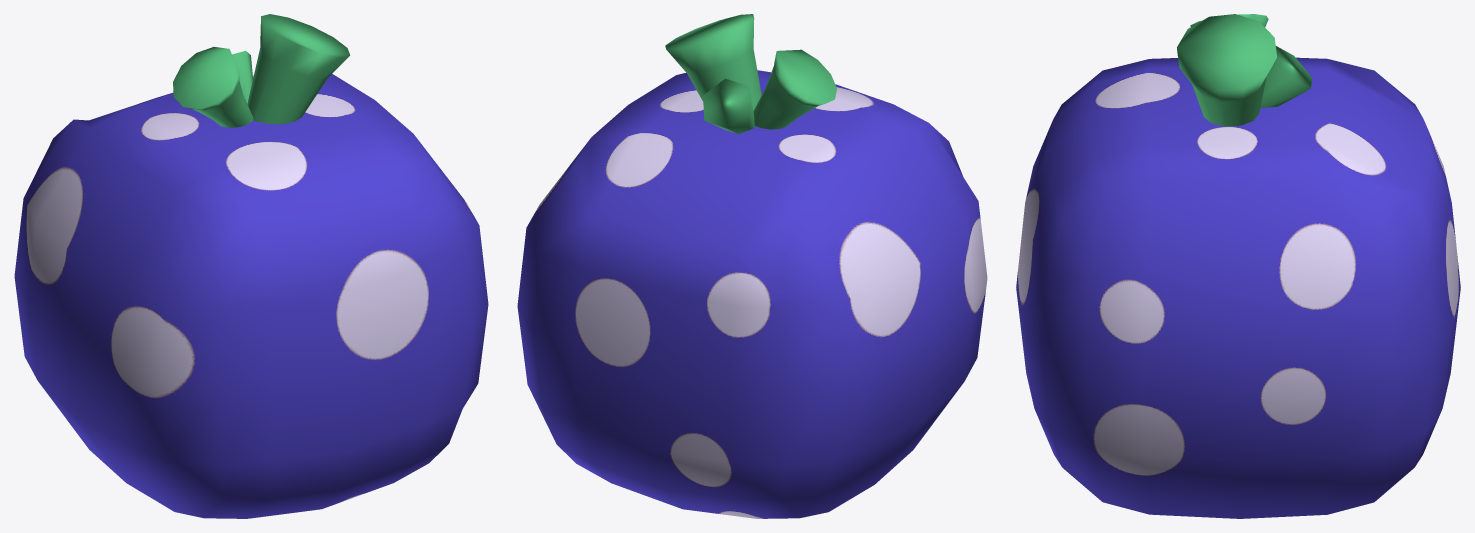
The model's file is BerryBlueNewLow.fbx.
3 views of the same model, side by side, from view 1: azimuth 30°, elevation 25°; view 2: azimuth 150°, elevation 25°; view 3: azimuth 270°, elevation 25° (orthographic). The views are drawn at different scales.
Parts seen in each view (by area): view 1: pCube2; view 2: pCube2; view 3: pCube2.
Part boxes in pixels (x1=…): pCube2: x1=14, y1=14, x2=488, y2=518; pCube2: x1=517, y1=14, x2=987, y2=518; pCube2: x1=1016, y1=14, x2=1460, y2=518.
Size of the model in its own units: 1.97 by 2.28 by 1.96.
1 material, 1 textured.
